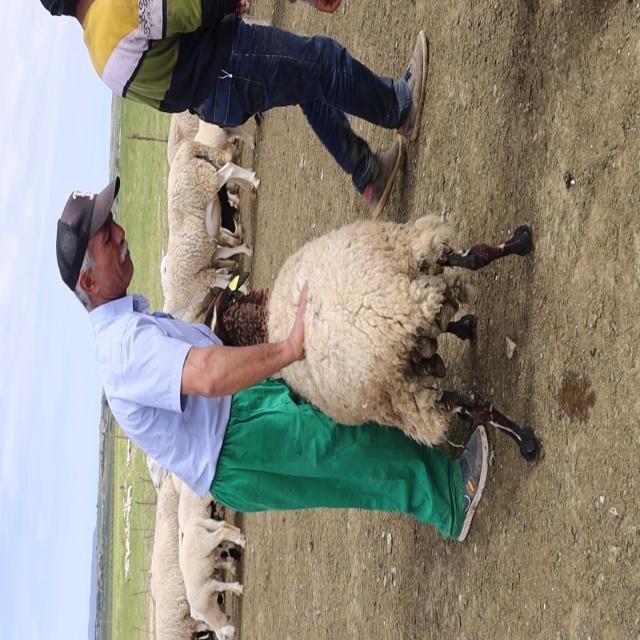Score_2: (214, 216, 539, 462)
